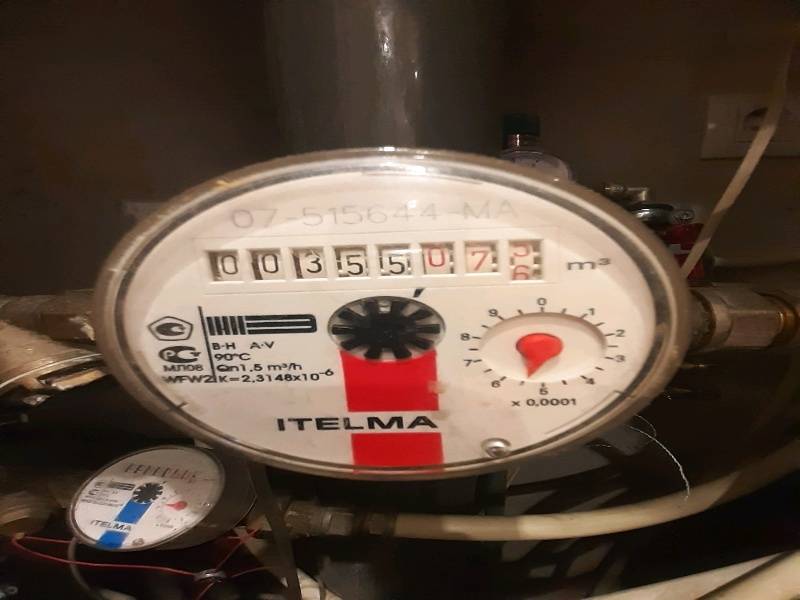meter: (206, 232, 544, 289)
